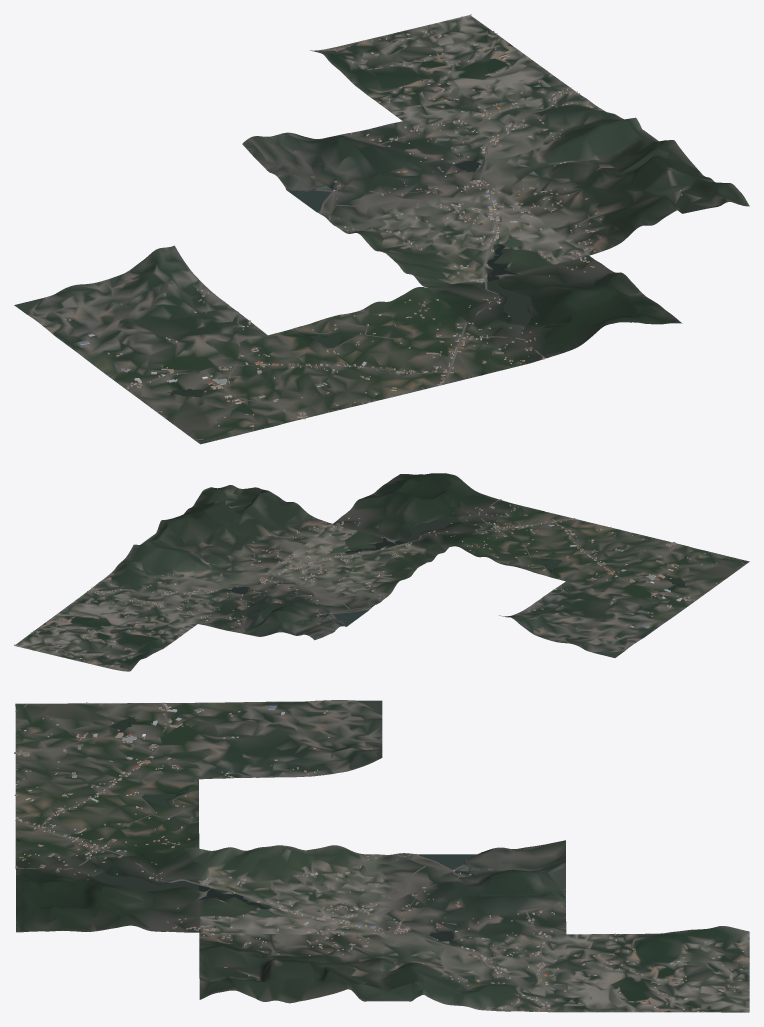
The picture shows the model from 3 angles, top to bottom: view 1: azimuth 30°, elevation 25°; view 2: azimuth 150°, elevation 25°; view 3: azimuth 270°, elevation 25°; orthographic projection. The views are drawn at different scales.
Visible parts, largest first — view 1: ground, buildings, water, roads; view 2: ground, buildings, water, roads; view 3: ground, buildings, water, roads.
Boxes of the visible parts, <box> form: ground: <box>14,15,749,444</box>; buildings: <box>64,14,682,429</box>; water: <box>14,43,531,397</box>; roads: <box>126,89,573,440</box>; ground: <box>14,473,749,671</box>; buildings: <box>14,499,723,667</box>; water: <box>43,511,685,657</box>; roads: <box>88,499,745,619</box>; ground: <box>15,700,749,1012</box>; buildings: <box>14,702,749,1012</box>; water: <box>17,700,671,1012</box>; roads: <box>15,703,547,1011</box>.
Size of the model in its own units: 5595 by 277 by 5626.
